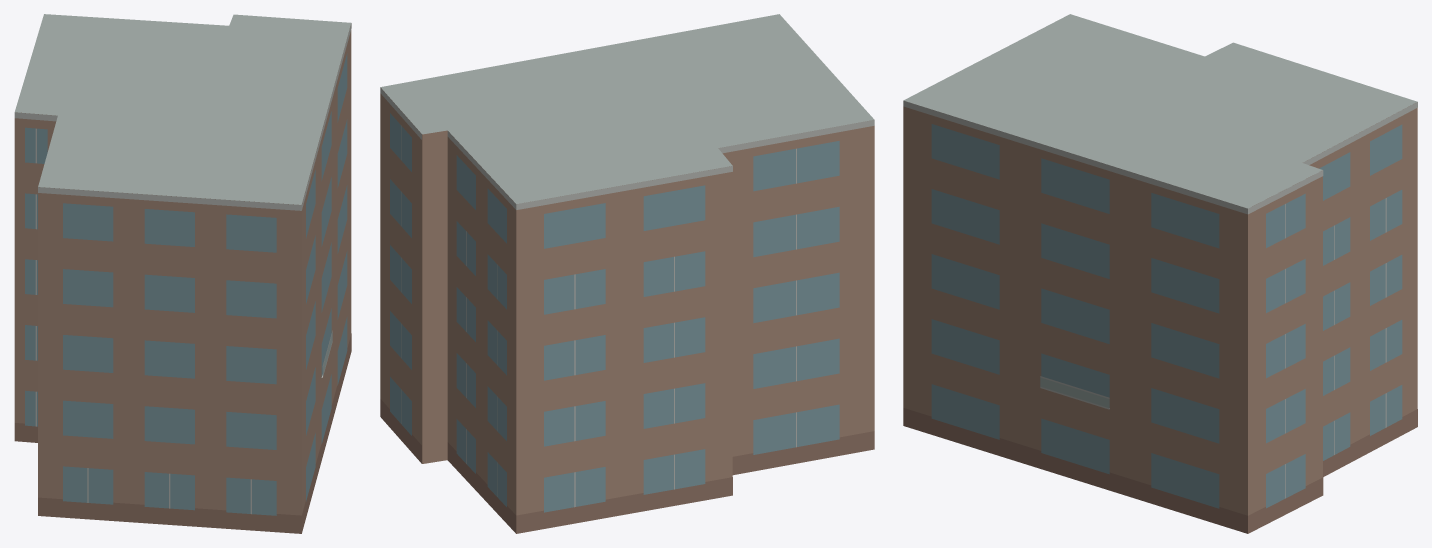
Rendered from survey-upis-32933409.glb.
3 views of the same model, side by side, from view 1: azimuth 30°, elevation 25°; view 2: azimuth 150°, elevation 25°; view 3: azimuth 270°, elevation 25° (orthographic).
Parts seen in each view (by area): view 1: survey-upis-32933409.tmp; view 2: survey-upis-32933409.tmp; view 3: survey-upis-32933409.tmp.
Part boxes in pixels (bbox=[...]): survey-upis-32933409.tmp: bbox=[14, 14, 351, 533]; survey-upis-32933409.tmp: bbox=[380, 14, 874, 533]; survey-upis-32933409.tmp: bbox=[903, 14, 1417, 533].
Bounding box in the file's own units: 17.33 × 13.5 × 19.36.
